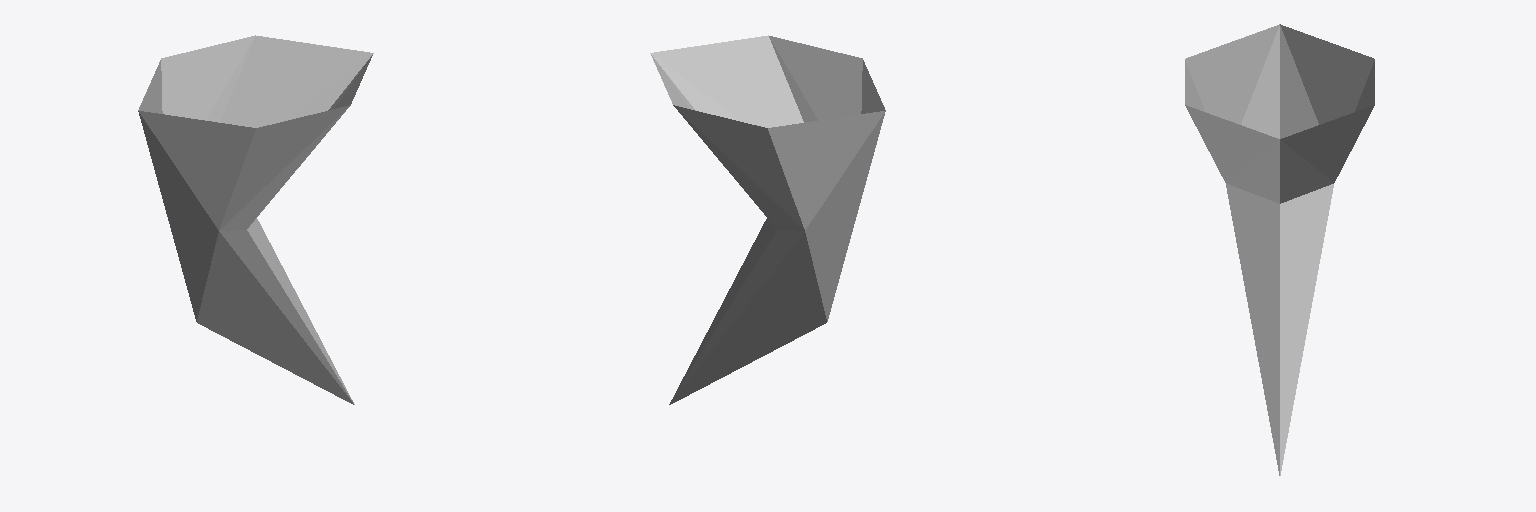
Rendered from carbon_foot_gem.obj.
3 renders of one model, left to right at view 1: azimuth 30°, elevation 25°; view 2: azimuth 150°, elevation 25°; view 3: azimuth 270°, elevation 25°, orthographic.
Parts seen in each view (by area): view 1: CarbonFootGem; view 2: CarbonFootGem; view 3: CarbonFootGem.
Boxes of the visible parts, <box> form: CarbonFootGem: <box>138,35,373,404</box>; CarbonFootGem: <box>650,35,885,404</box>; CarbonFootGem: <box>1185,24,1374,475</box>.
Size of the model in its own units: 2 by 2.82 by 1.4.